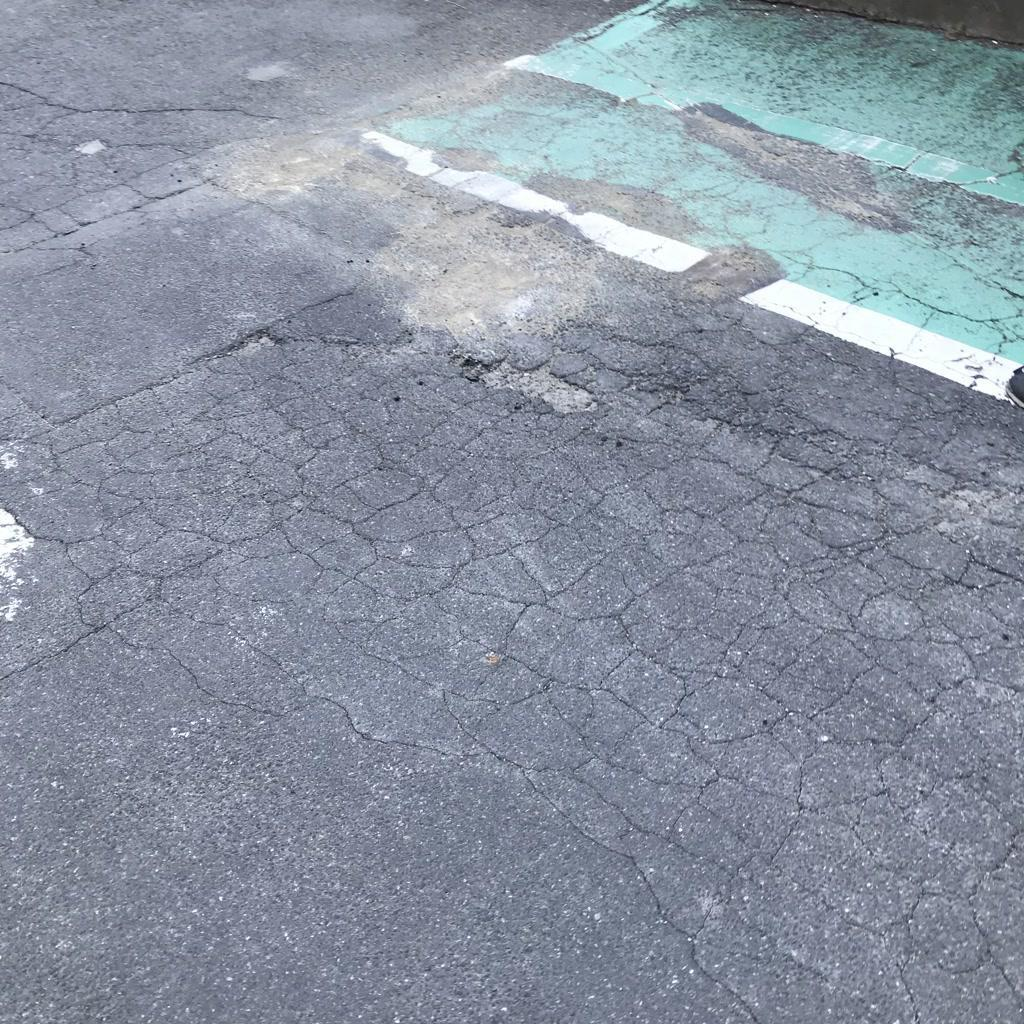pothole: (461, 350, 603, 412), (215, 328, 277, 360)
